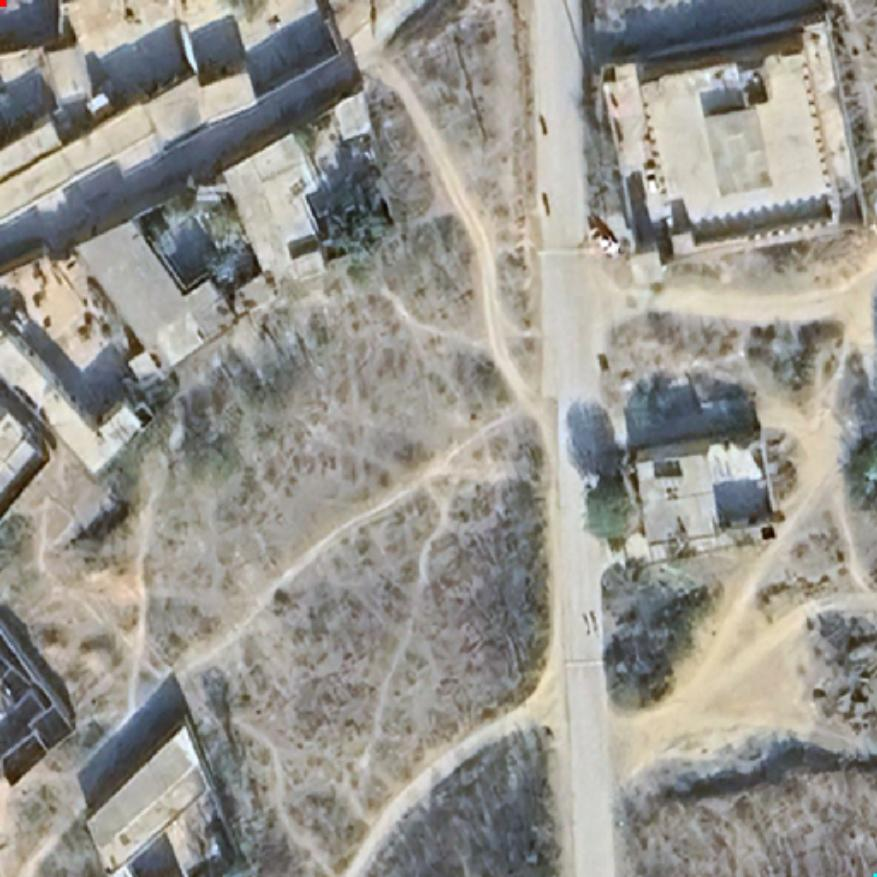Solarpanel: (651, 457, 685, 481)
